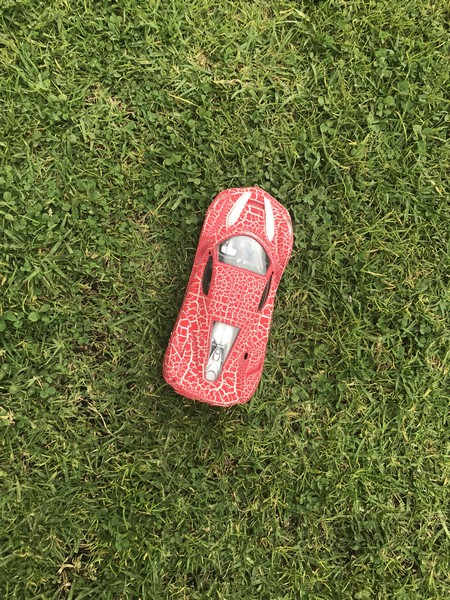RC: (160, 184, 294, 411)
